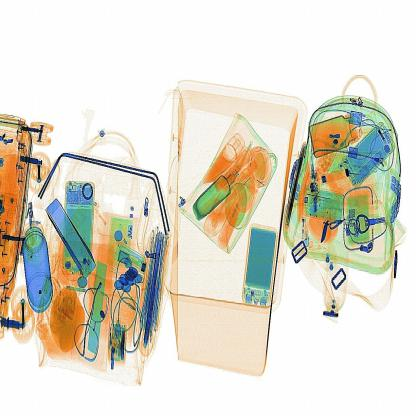wrench: (314, 214, 338, 249)
